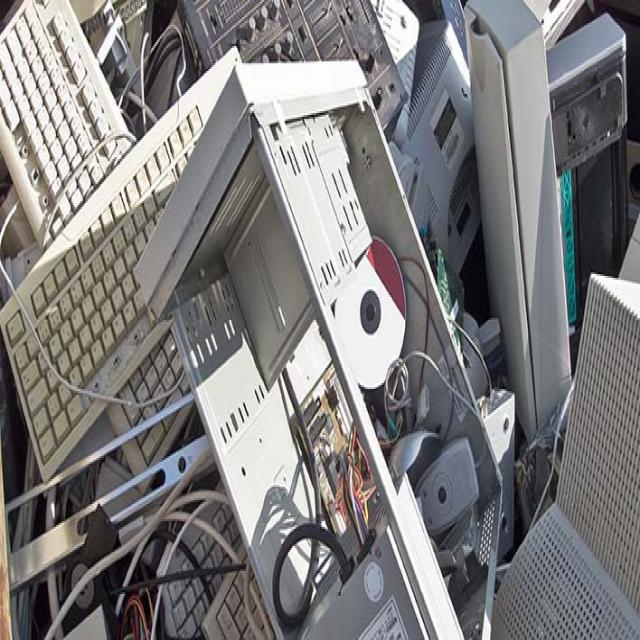hazard: (0, 16, 640, 640)
